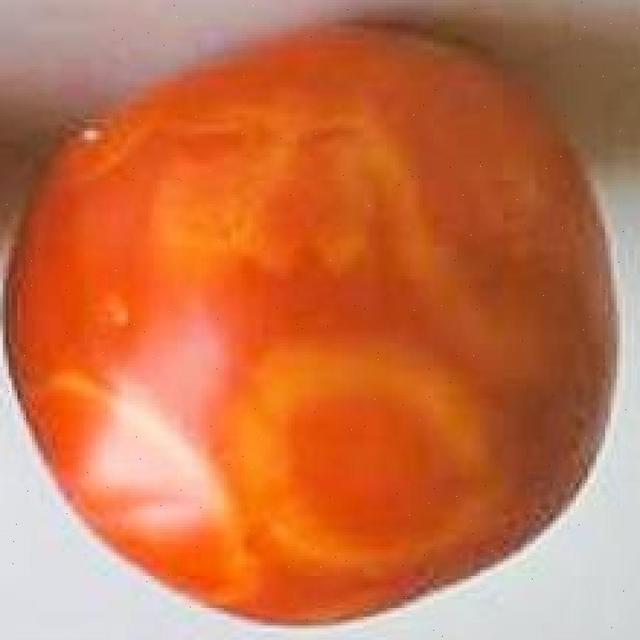Spotted wilt Virus Fruit: (4, 14, 413, 421)
